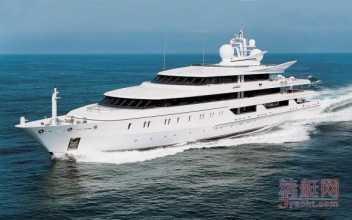yacht: (14, 32, 326, 165)
